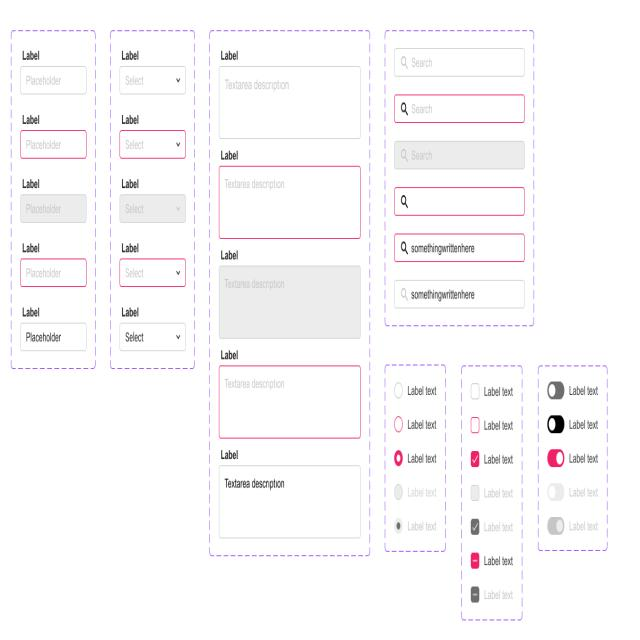QLabel: (21, 47, 41, 62), (21, 241, 41, 253), (21, 178, 41, 190), (120, 306, 140, 318), (21, 306, 41, 318), (220, 49, 239, 61), (220, 348, 239, 360), (220, 448, 239, 460), (120, 178, 140, 189), (121, 49, 139, 61), (22, 113, 40, 125), (220, 149, 239, 160), (220, 249, 239, 260), (121, 114, 139, 125), (121, 242, 139, 253)
VCheckbox: (470, 449, 515, 470), (470, 381, 514, 402), (470, 483, 515, 503), (470, 415, 514, 435), (470, 517, 514, 537), (470, 584, 514, 604), (470, 551, 513, 570)
VCombobox: (119, 65, 186, 96), (118, 258, 187, 288), (118, 129, 186, 159), (118, 194, 186, 223), (119, 322, 187, 351)
VRadio: (393, 379, 437, 401), (393, 413, 438, 434), (392, 448, 437, 466), (393, 483, 438, 501), (393, 516, 437, 534)
VSwitch: (547, 413, 599, 435), (547, 482, 599, 503), (547, 516, 599, 537), (547, 380, 599, 400), (547, 448, 599, 468)
VTextField: (394, 92, 526, 125), (394, 46, 526, 78), (394, 139, 526, 171), (394, 186, 526, 218), (394, 232, 526, 264), (394, 278, 525, 310), (20, 64, 87, 96), (19, 129, 87, 160), (20, 258, 87, 288), (20, 194, 87, 223), (20, 323, 87, 351)
VTextarea: (218, 463, 362, 541), (218, 64, 362, 141), (218, 164, 362, 241), (218, 364, 362, 441), (218, 264, 362, 340)
